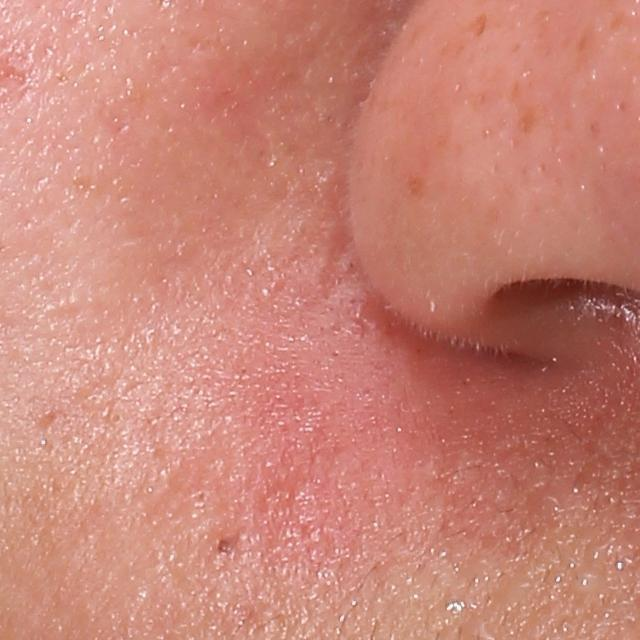comedo: (106, 410, 125, 426)
melasma: (512, 101, 544, 141), (399, 168, 434, 201), (464, 9, 491, 43)
